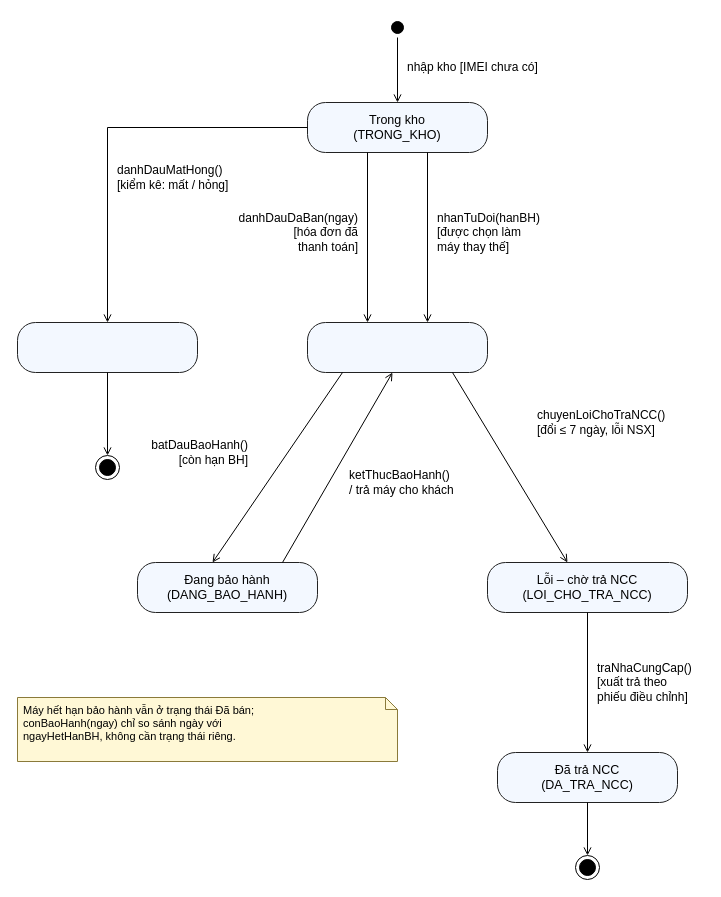
This 721x897 diagram has some shape labels left out. The shapes that lost their labels are listed below. From the top down, each one's centre as x and y in pixels, then its label:
point (107, 347): Mất / hỏng (MAT_HONG)
point (397, 347): Đã bán (DA_BAN)
